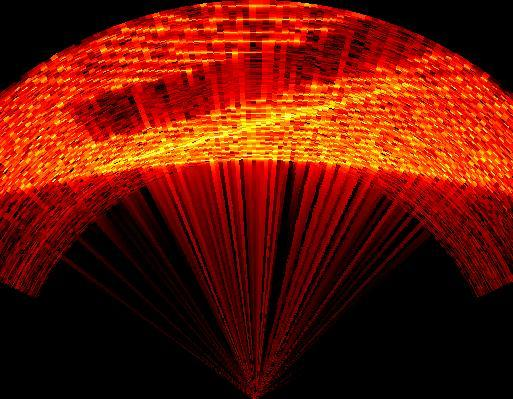pipe: (79, 20, 456, 167)
